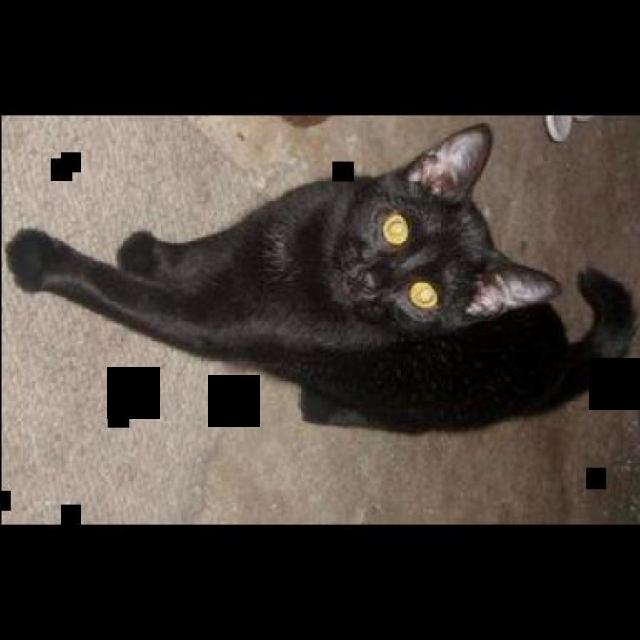unauthorized: (4, 119, 638, 432)
